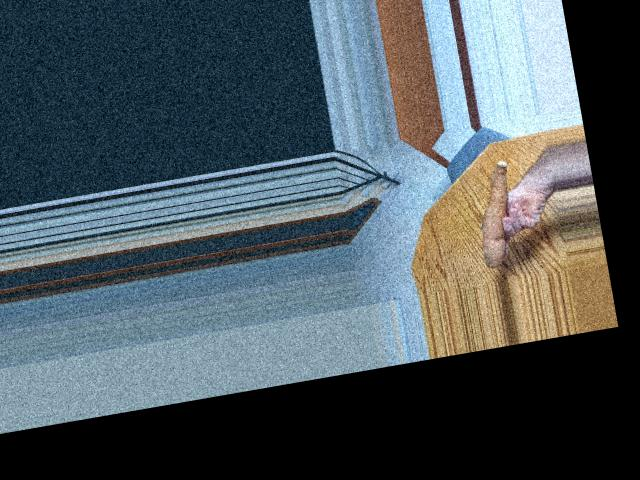sweet_potato: (465, 158, 528, 266)
